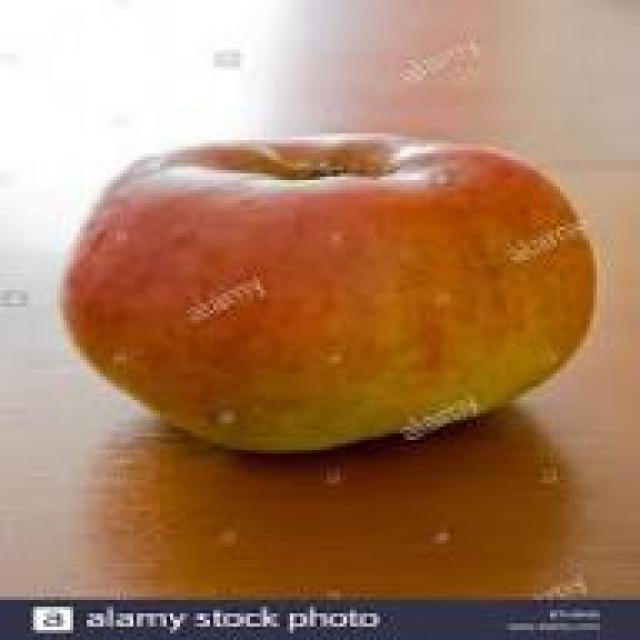apple: (80, 143, 620, 467)
